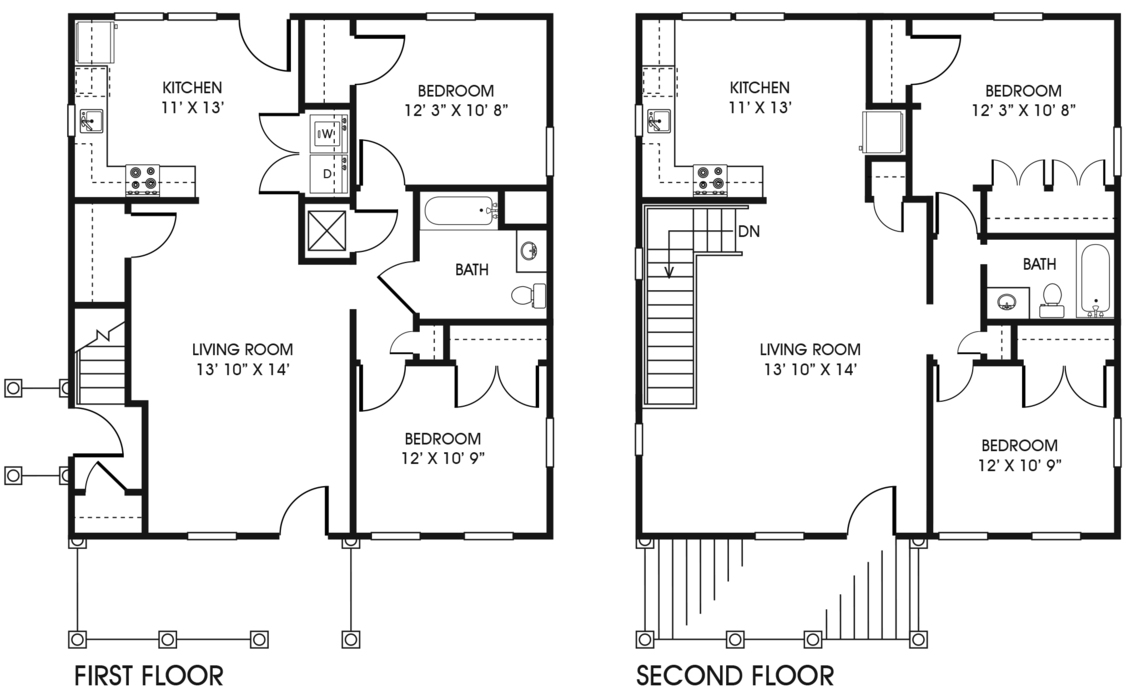door: (266, 474, 351, 534), (252, 108, 291, 201), (1019, 373, 1114, 410), (445, 376, 541, 411), (78, 406, 134, 465), (355, 129, 407, 185), (136, 208, 193, 257), (836, 482, 903, 523), (370, 259, 424, 309), (919, 26, 968, 79), (238, 31, 296, 75), (354, 369, 406, 418), (363, 32, 410, 77), (935, 186, 971, 234), (934, 374, 977, 407), (85, 463, 128, 489), (872, 208, 909, 235), (378, 329, 414, 355)
room: (638, 200, 931, 541), (632, 13, 911, 201), (127, 200, 356, 404), (66, 13, 305, 196), (353, 11, 555, 190), (349, 360, 547, 542), (928, 361, 1121, 542), (905, 10, 1122, 157), (140, 402, 352, 541), (353, 186, 553, 327), (910, 163, 1122, 240), (979, 232, 1122, 325), (68, 399, 144, 546), (955, 324, 1124, 369), (64, 196, 132, 307), (414, 317, 553, 366), (297, 105, 356, 201), (78, 299, 129, 406), (299, 9, 354, 108), (351, 316, 422, 364)
wall: (543, 175, 555, 422), (347, 305, 359, 542), (923, 351, 932, 527), (634, 282, 645, 425), (123, 257, 131, 407), (637, 531, 747, 540), (474, 13, 553, 25), (548, 11, 556, 127), (69, 196, 73, 407), (634, 10, 643, 100), (636, 452, 645, 536), (72, 533, 185, 539), (141, 400, 146, 533), (68, 135, 77, 205), (324, 530, 372, 543), (514, 531, 557, 543), (235, 529, 279, 540), (891, 530, 936, 540), (546, 465, 551, 540), (802, 533, 849, 540)
window: (736, 4, 784, 31), (674, 6, 734, 26), (464, 527, 514, 546), (541, 126, 557, 175), (371, 529, 416, 546), (115, 10, 168, 23), (427, 11, 474, 24), (186, 532, 236, 543), (1032, 533, 1086, 543), (543, 418, 553, 466), (631, 106, 644, 139), (166, 13, 213, 22), (632, 250, 643, 282), (936, 533, 984, 540), (753, 532, 797, 539), (636, 422, 644, 452), (69, 107, 74, 135)
